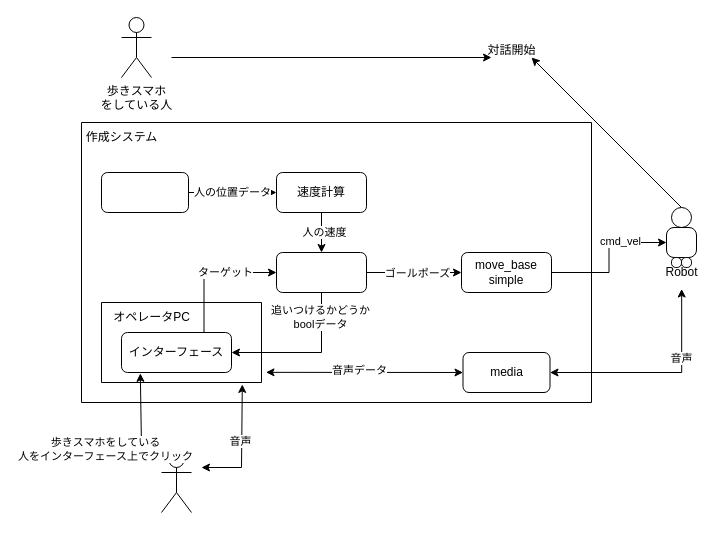
The diagram is 728 pixels wide and 551 high, and some of its shapes have lost their labels. The shapes that lost their labels are listed below. From the top down, each one's box as (x1, y1, x2, y2) in pixels, then its label:
(100, 172, 188, 212): human_tracker
(276, 252, 366, 292): ゴール計算
(160, 452, 192, 512): オペレータ
